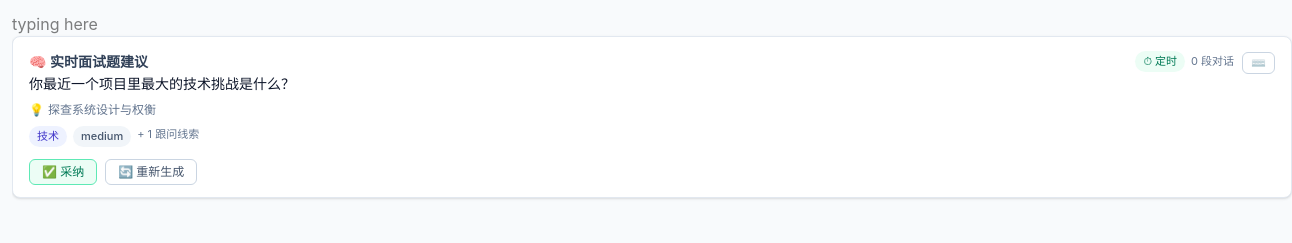
Test: V166 keyboard shortcuts › adopting a historical suggestion also resets the panel to live
Press j
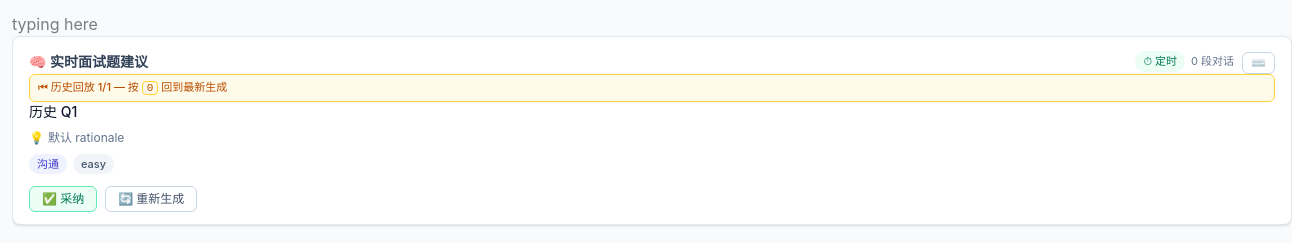
Check: the element with test id "rqs-history-banner" is shown, box left=29, top=74, right=1275, bottom=102
Click the button with test id "rqs-adopt" at (63, 199), box left=29, top=186, right=97, bottom=212
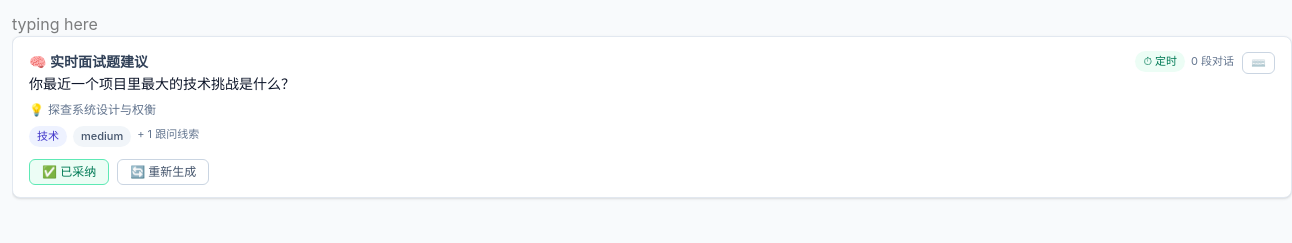
Check: the element with test id "rqs-history-banner" is gone
Check: the text with test id "rqs-question" shows "最大的技术挑战", box left=29, top=75, right=295, bottom=92
